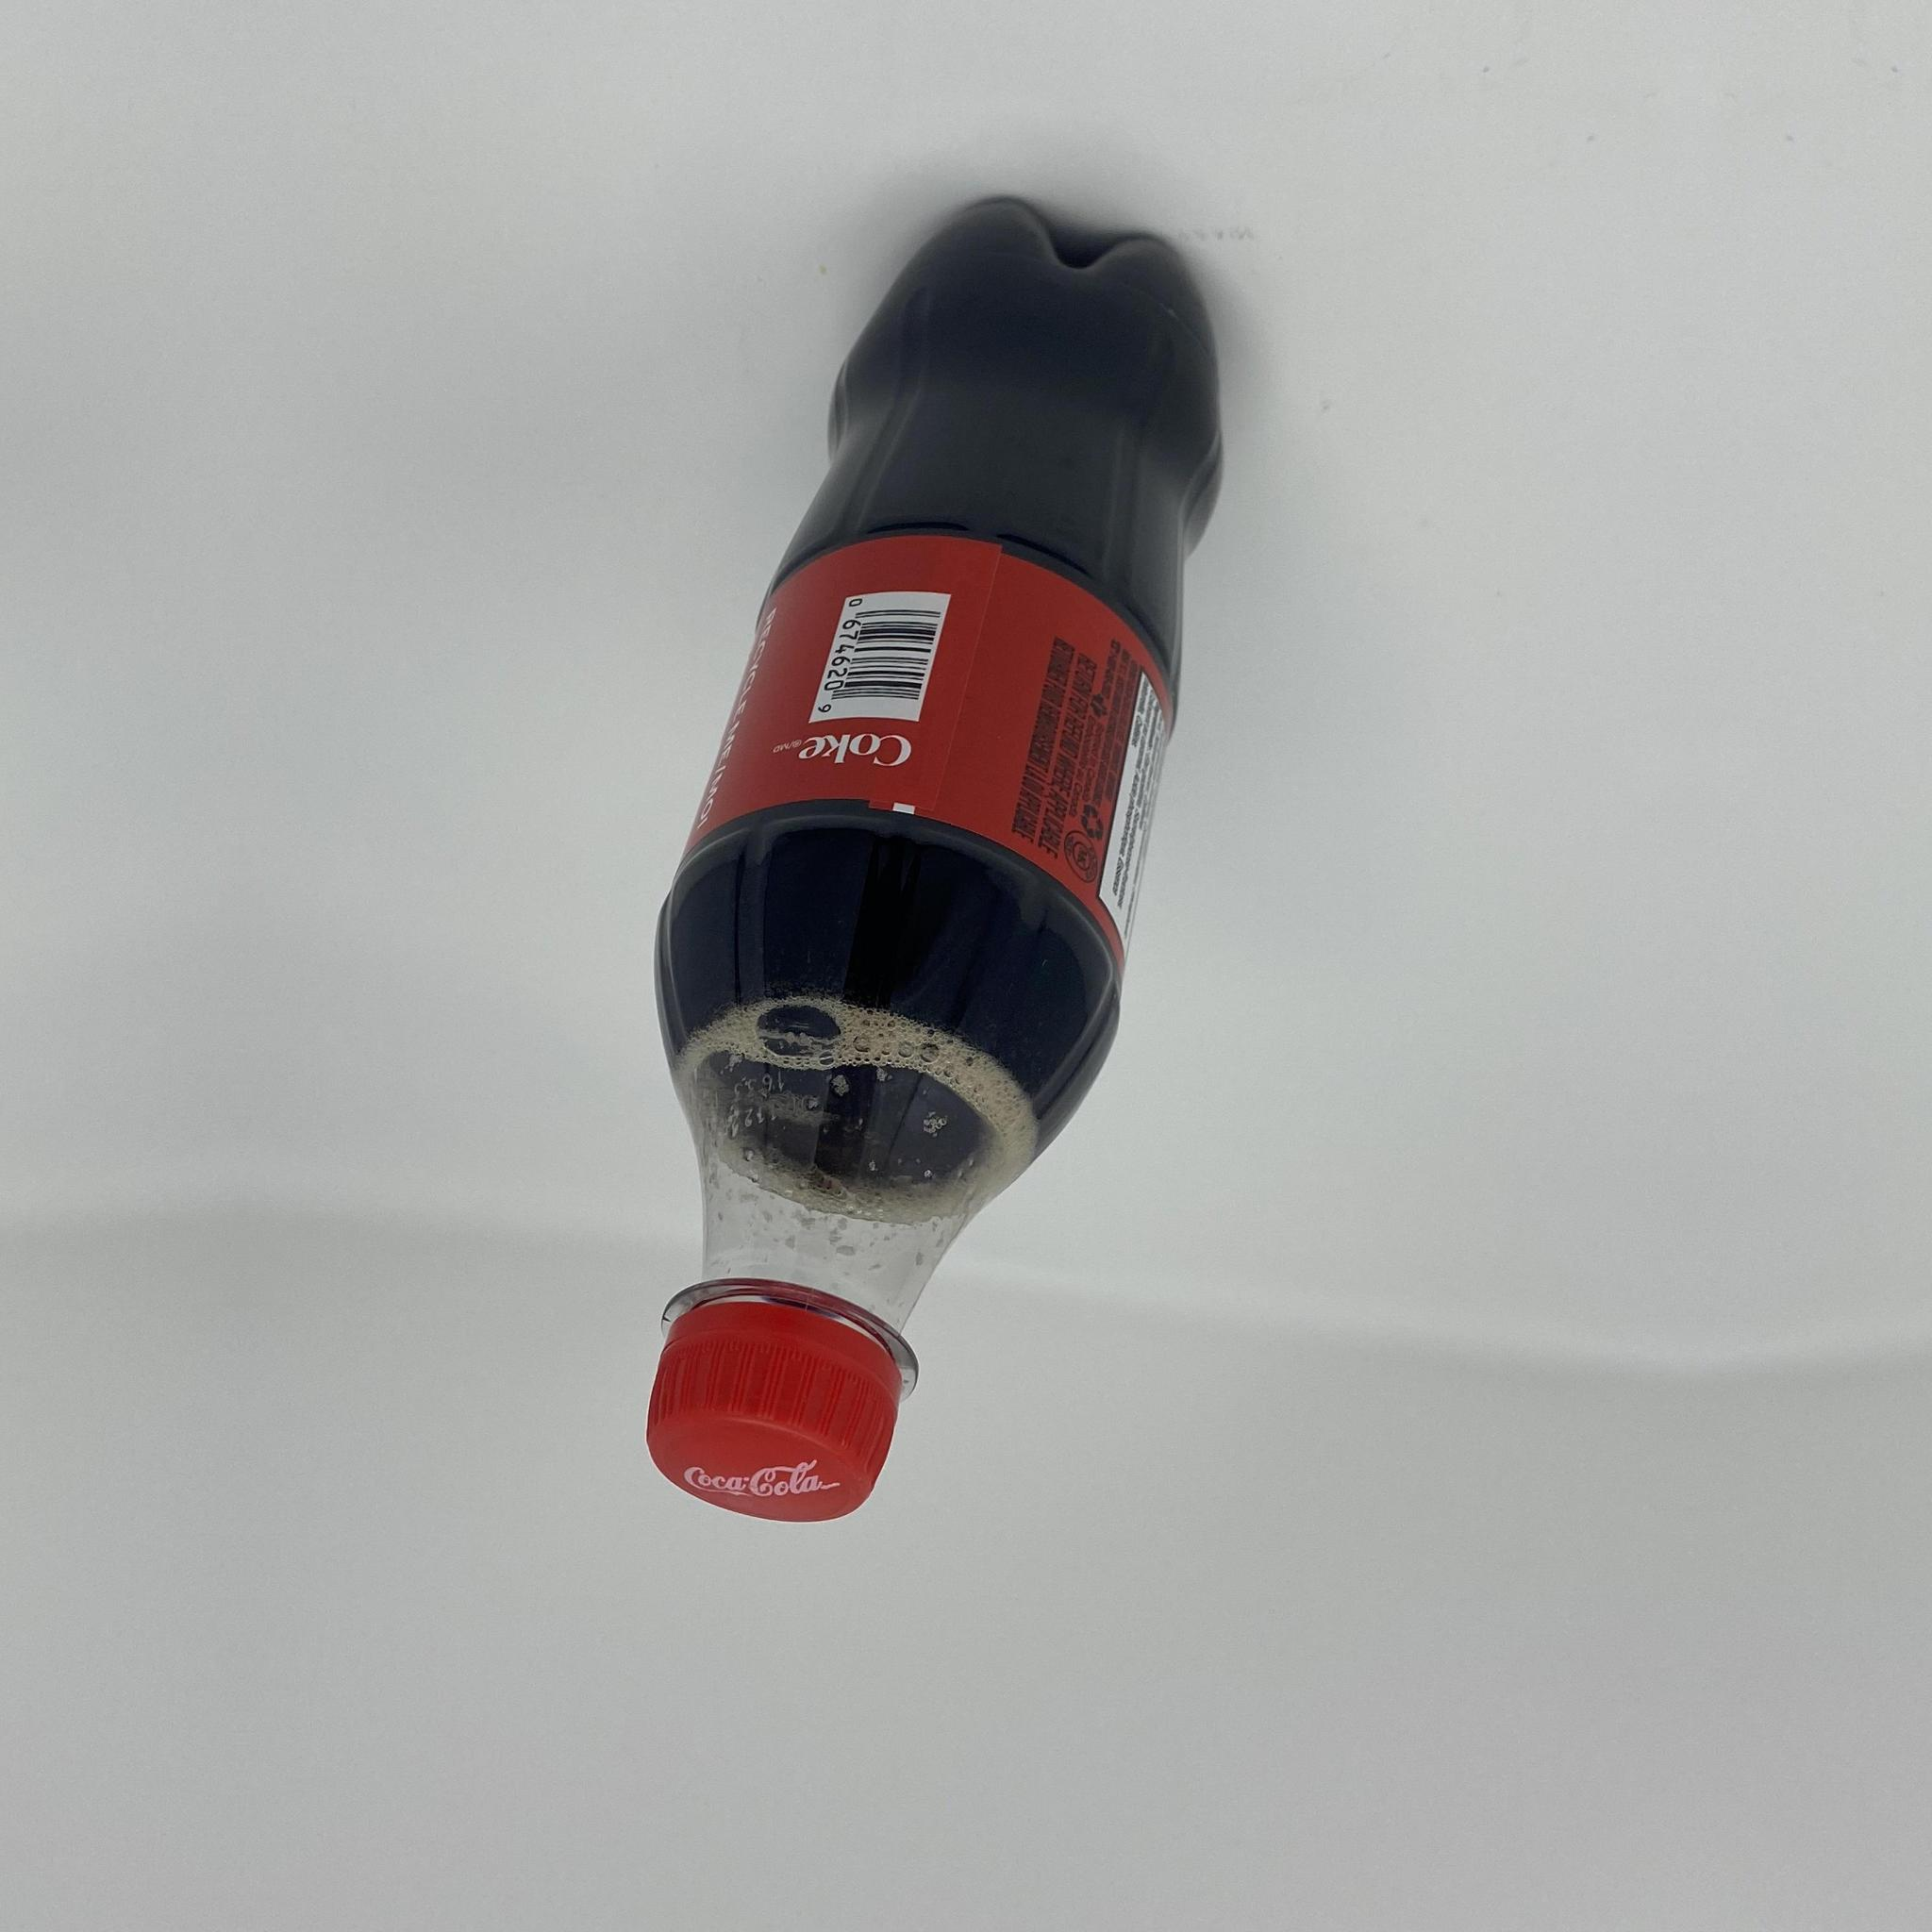PET: (644, 191, 1224, 1523)
cocacola: (644, 191, 1224, 1523)
plastic: (644, 191, 1224, 1523)
soft-drink: (644, 191, 1224, 1523)
